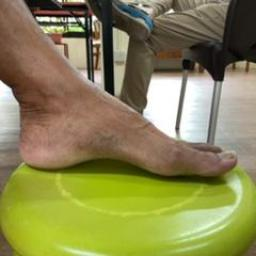Medial View -Left Foot-: (6, 32, 246, 201)
